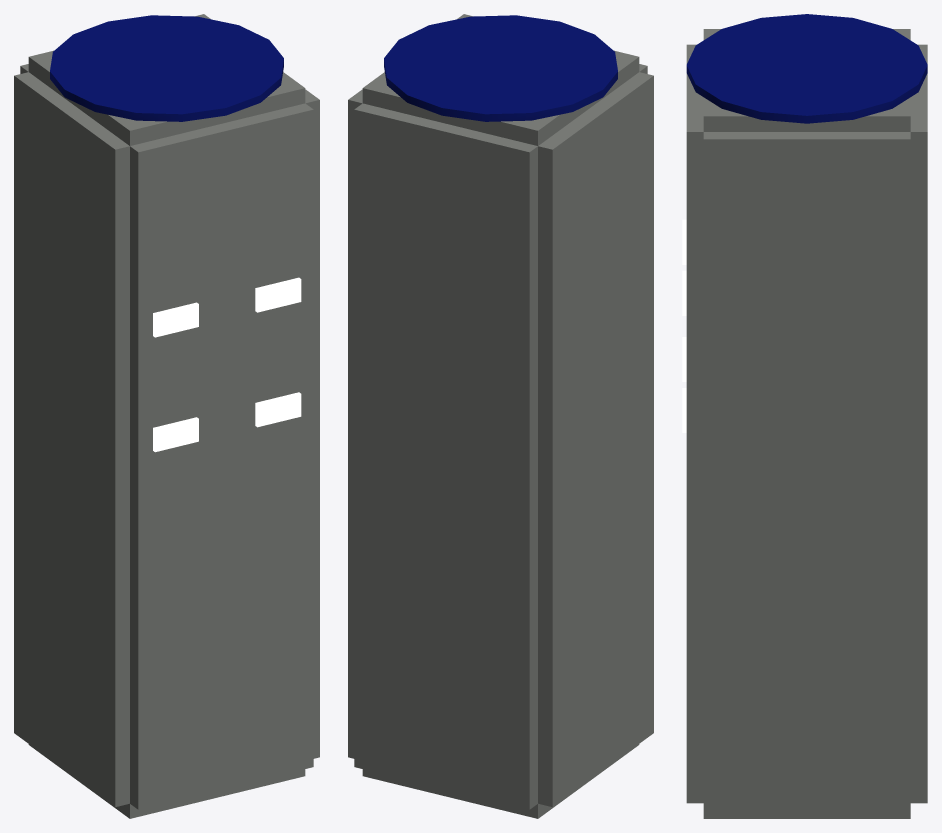
File: ap-charging-pillar.glb
The picture shows the model from 3 angles, left to right: view 1: azimuth 30°, elevation 25°; view 2: azimuth 150°, elevation 25°; view 3: azimuth 270°, elevation 25°; orthographic projection. The views are drawn at different scales.
Visible parts, largest first — view 1: body__paint, ports__led; view 2: body__paint; view 3: body__paint, ports__led.
Part boxes in pixels (x1,y1,x2,y2): body__paint: (14, 14, 319, 818); ports__led: (153, 277, 301, 452); body__paint: (348, 14, 653, 818); body__paint: (686, 14, 927, 818); ports__led: (682, 219, 686, 432).
Bounding box in the file's own units: 0.28 × 0.91 × 0.285.
